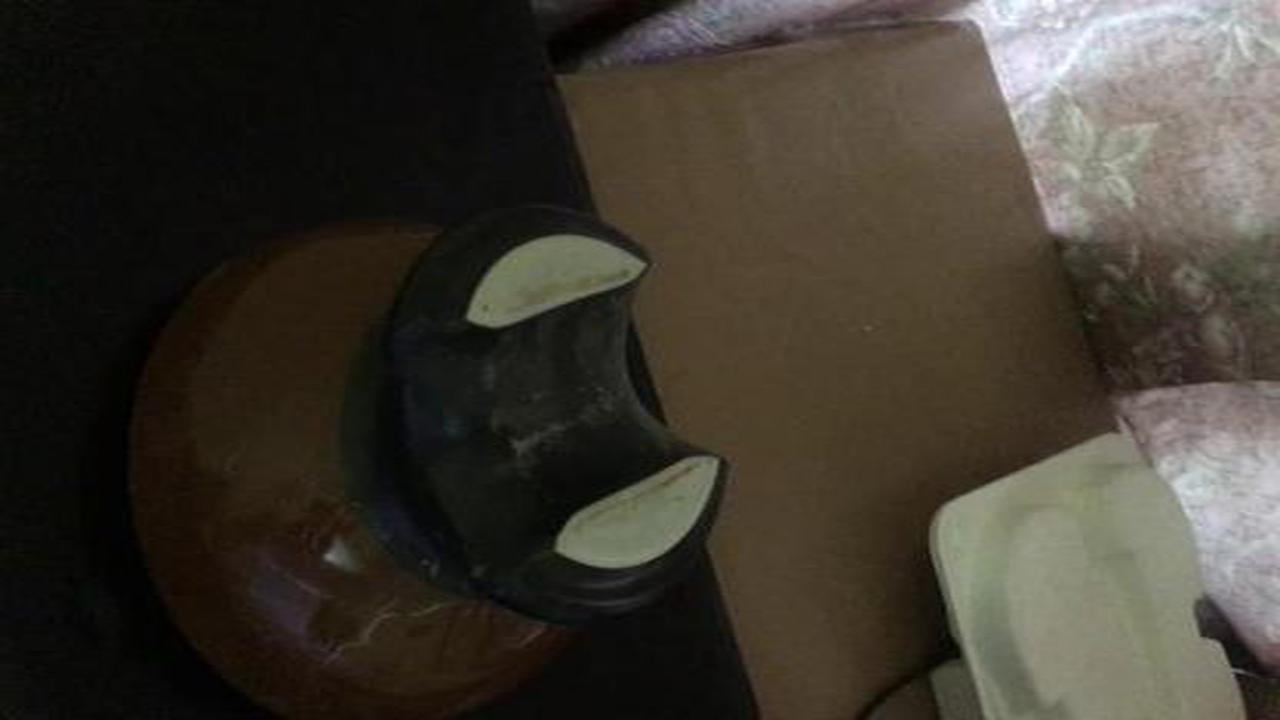insulator_pin: (96, 187, 748, 720)
